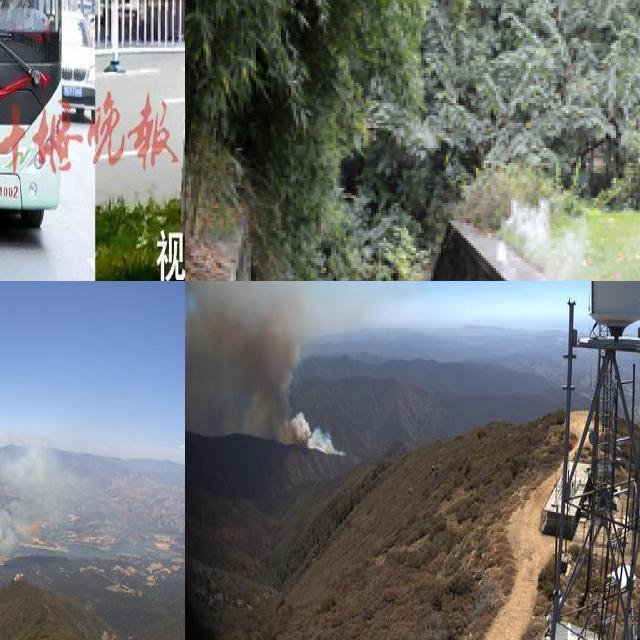smoke: (185, 281, 347, 461), (0, 433, 97, 577), (493, 195, 596, 281)
